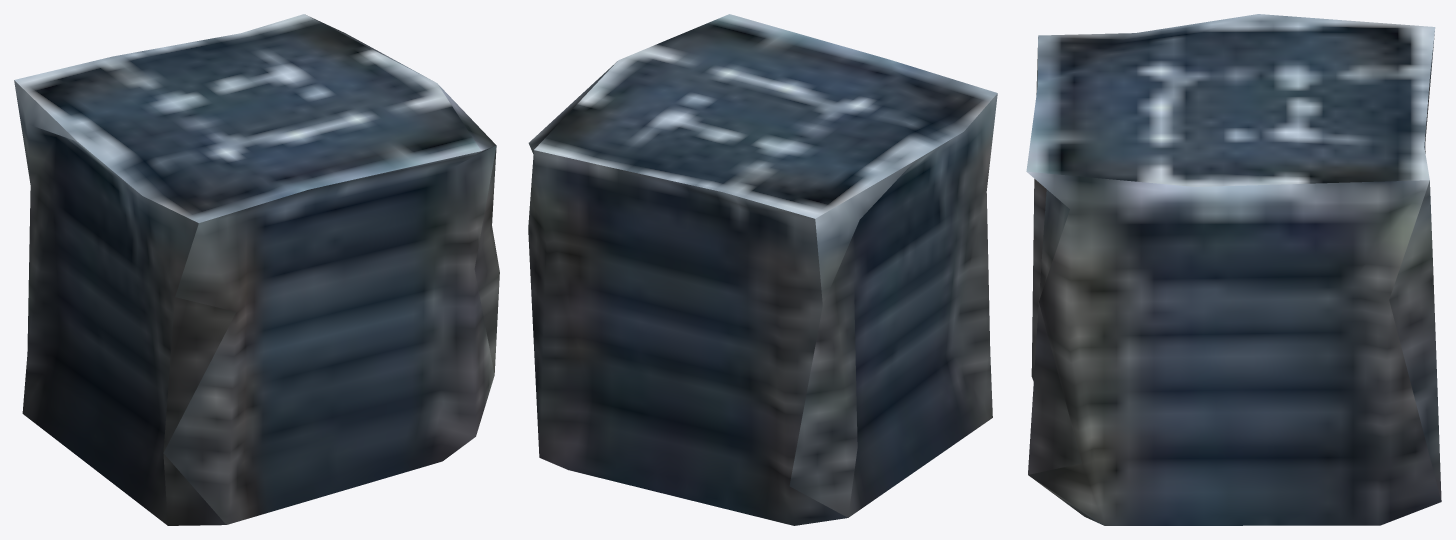
File: b_givre_mur_3_lod1.glb
3 views of the same model, side by side, from view 1: azimuth 30°, elevation 25°; view 2: azimuth 150°, elevation 25°; view 3: azimuth 270°, elevation 25° (orthographic). The views are drawn at different scales.
Parts seen in each view (by area): view 1: geometry_0; view 2: geometry_0; view 3: geometry_0.
Boxes of the visible parts, x1,y1,x2,y2 form: geometry_0: [14, 14, 499, 525]; geometry_0: [528, 14, 997, 525]; geometry_0: [1026, 14, 1441, 525].
Bounding box in the file's own units: 1 × 0.9408 × 1.
Materials: 1 (1 with a texture image).
